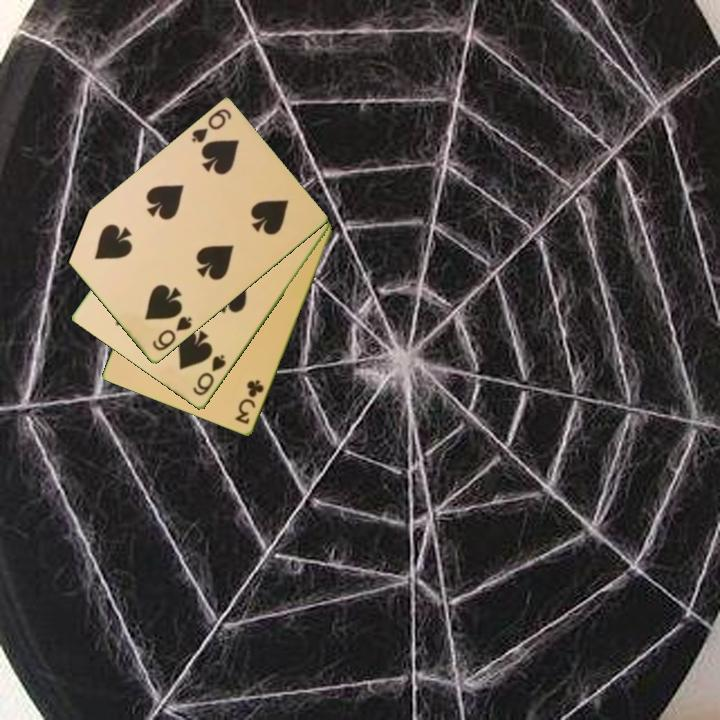3c: (231, 377, 267, 428)
6s: (189, 351, 229, 399), (149, 313, 195, 354), (188, 105, 234, 146)
